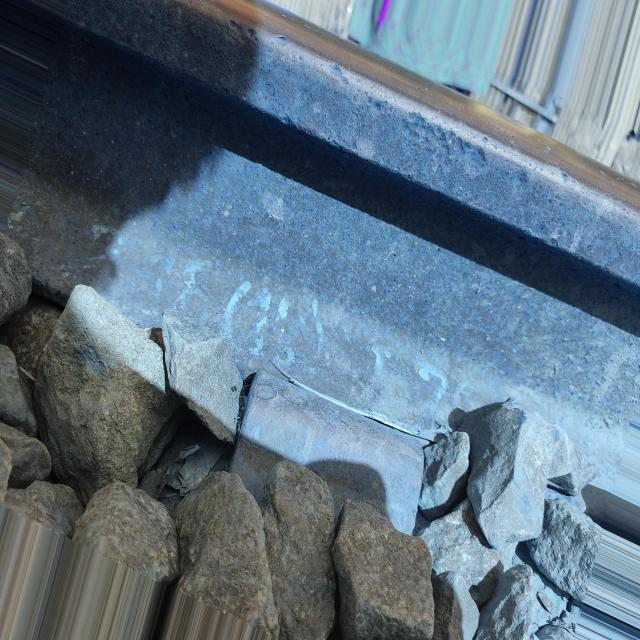Missing Fastener: (230, 370, 424, 640)
